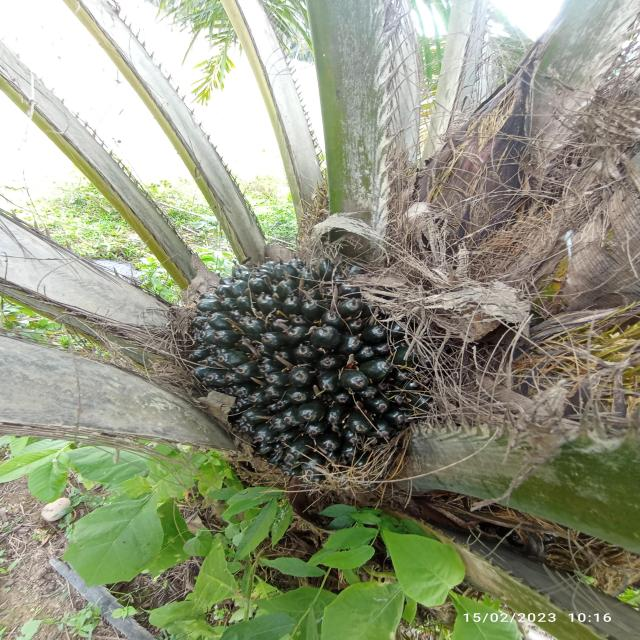fraksi 00: (140, 248, 473, 479)
